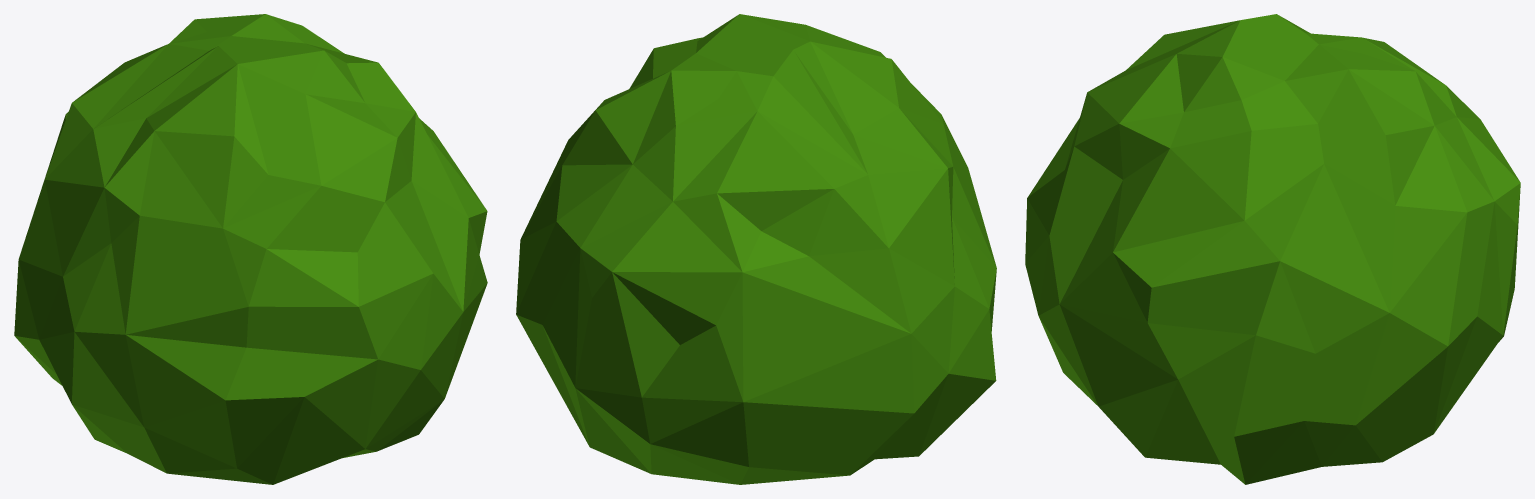
Rendered from bush.glb.
The picture shows the model from 3 angles, left to right: view 1: azimuth 30°, elevation 25°; view 2: azimuth 150°, elevation 25°; view 3: azimuth 270°, elevation 25°; orthographic projection. The views are drawn at different scales.
Parts seen in each view (by area): view 1: Sphere; view 2: Sphere; view 3: Sphere.
Part boxes in pixels (x1,y1,x2,y2): Sphere: [14, 14, 487, 484]; Sphere: [516, 14, 996, 484]; Sphere: [1025, 14, 1520, 484].
Bounding box in the file's own units: 1.1 × 1 × 1.15.
